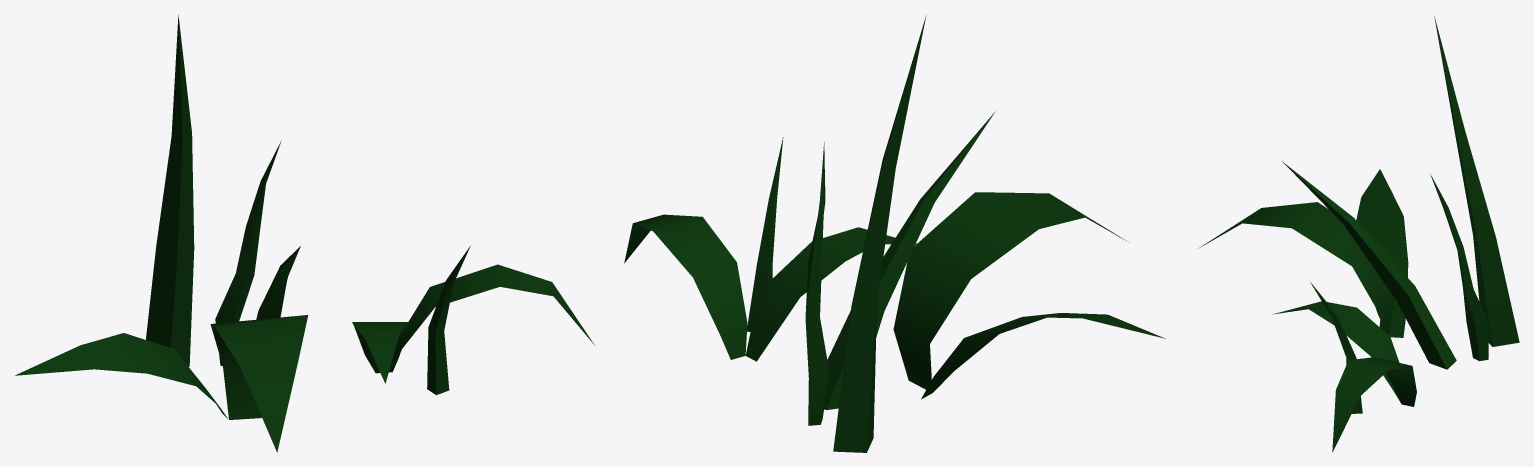
File: Mix23.obj
3 views of the same model, side by side, from view 1: azimuth 30°, elevation 25°; view 2: azimuth 150°, elevation 25°; view 3: azimuth 270°, elevation 25° (orthographic). The views are drawn at different scales.
Visible parts, largest first — view 1: Mix_23; view 2: Mix_23; view 3: Mix_23.
Part boxes in pixels (left/top/right/bottom): Mix_23: left=15, top=15, right=594, bottom=452; Mix_23: left=624, top=15, right=1165, bottom=452; Mix_23: left=1198, top=16, right=1519, bottom=452.
Bounding box in the file's own units: 0.1061 × 0.0718 × 0.0671.
